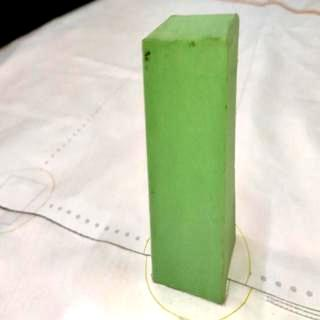greenbox: (143, 14, 245, 298)
